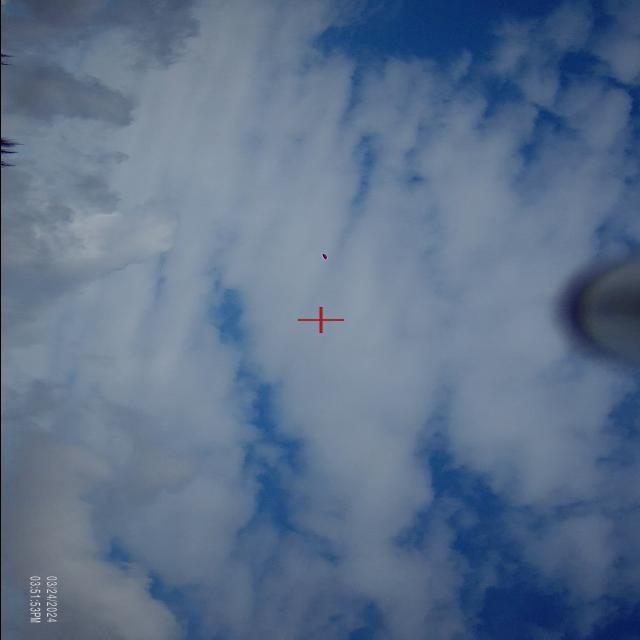entire: (312, 248, 334, 263)
